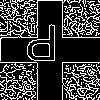P: (25, 25, 58, 70)
